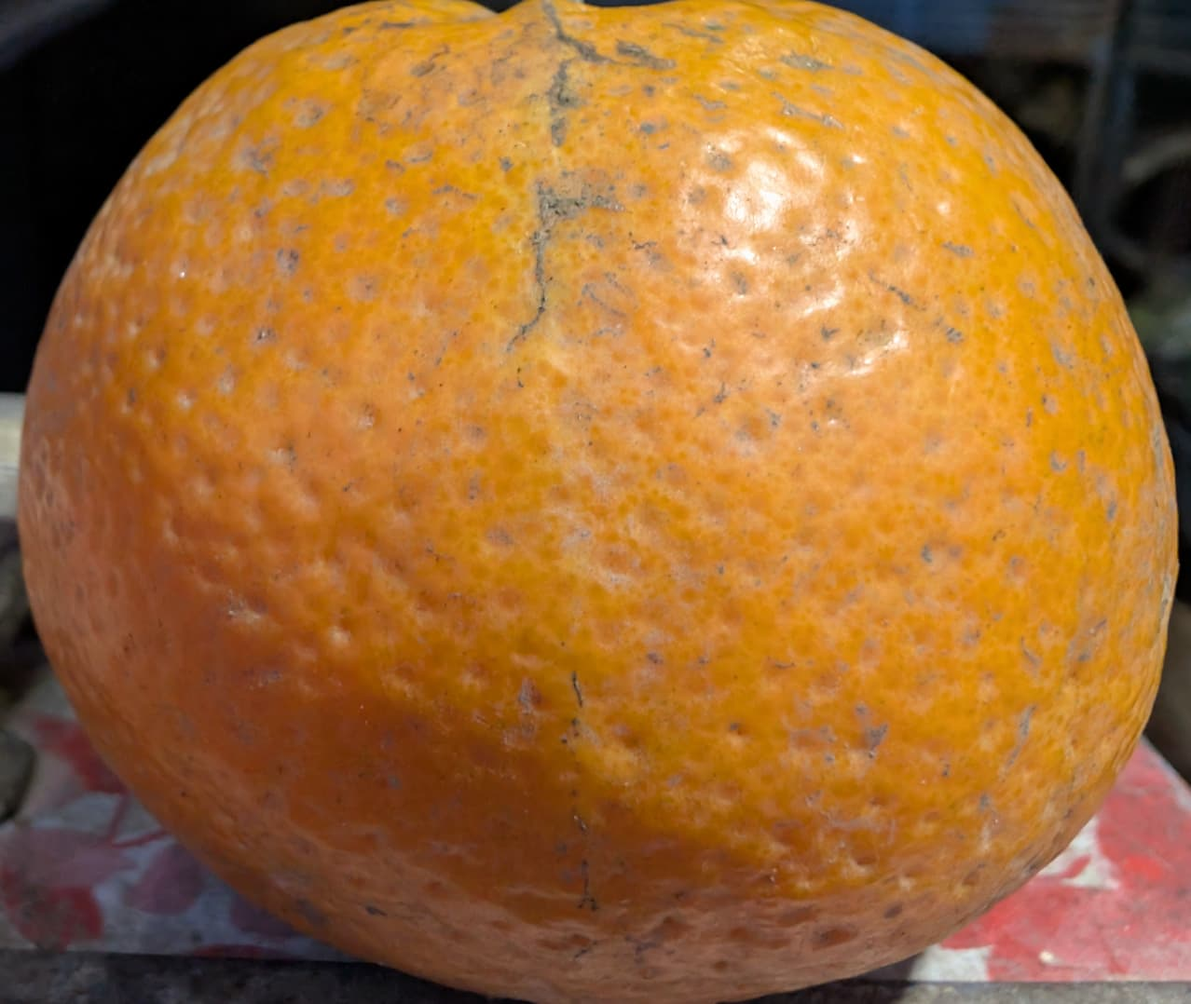orange: (39, 77, 947, 963)
